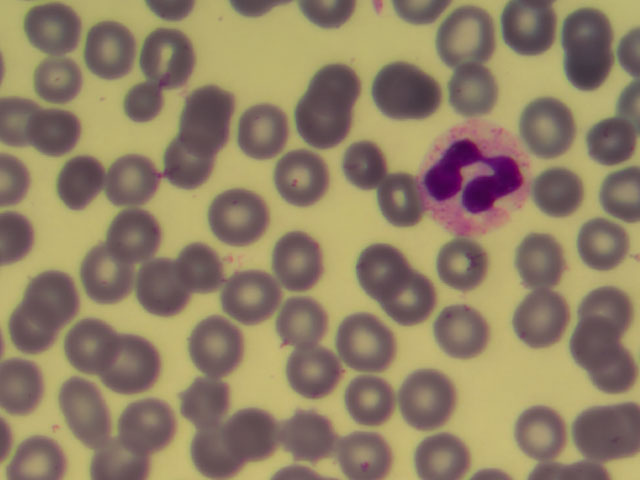RBC: (23, 1, 84, 59), (24, 46, 85, 104), (26, 100, 87, 158), (48, 150, 109, 208), (102, 150, 163, 208), (112, 80, 173, 138), (137, 22, 198, 80), (85, 19, 146, 77), (179, 81, 240, 139), (161, 135, 222, 193), (232, 101, 293, 159), (292, 91, 353, 149), (302, 55, 363, 113), (372, 58, 433, 116), (335, 132, 396, 190), (367, 159, 428, 217), (269, 147, 330, 205), (209, 184, 270, 242), (177, 240, 238, 298), (137, 261, 198, 319), (110, 205, 171, 263), (76, 244, 137, 302), (25, 263, 86, 321), (8, 297, 69, 355), (60, 315, 121, 373), (105, 338, 166, 396), (185, 318, 246, 376), (215, 269, 276, 327), (269, 229, 330, 287), (275, 292, 336, 350), (287, 343, 348, 401), (334, 314, 395, 372), (348, 237, 409, 295), (380, 267, 441, 325), (429, 236, 490, 294), (433, 302, 494, 360), (340, 372, 401, 430), (393, 368, 454, 426), (415, 422, 476, 480), (331, 422, 392, 480), (281, 406, 342, 464), (228, 403, 289, 461), (194, 418, 255, 476), (170, 374, 231, 432), (116, 394, 177, 452), (90, 422, 151, 480), (61, 382, 122, 440), (7, 422, 68, 480), (429, 10, 490, 68), (447, 54, 508, 112), (499, 1, 560, 59), (565, 48, 626, 106), (524, 94, 585, 152), (532, 163, 593, 221), (569, 209, 630, 267), (579, 118, 640, 176), (512, 230, 573, 288), (514, 288, 575, 346), (578, 272, 639, 330), (561, 312, 622, 370), (579, 336, 640, 394), (579, 392, 640, 450), (511, 401, 572, 459), (1, 358, 61, 416), (557, 1, 618, 58)
WBC: (420, 117, 529, 234)
